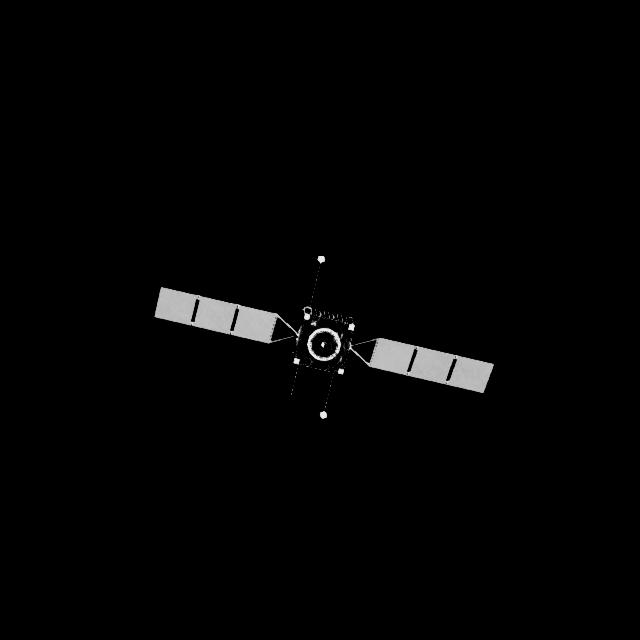medium_debris: (155, 287, 494, 394)
